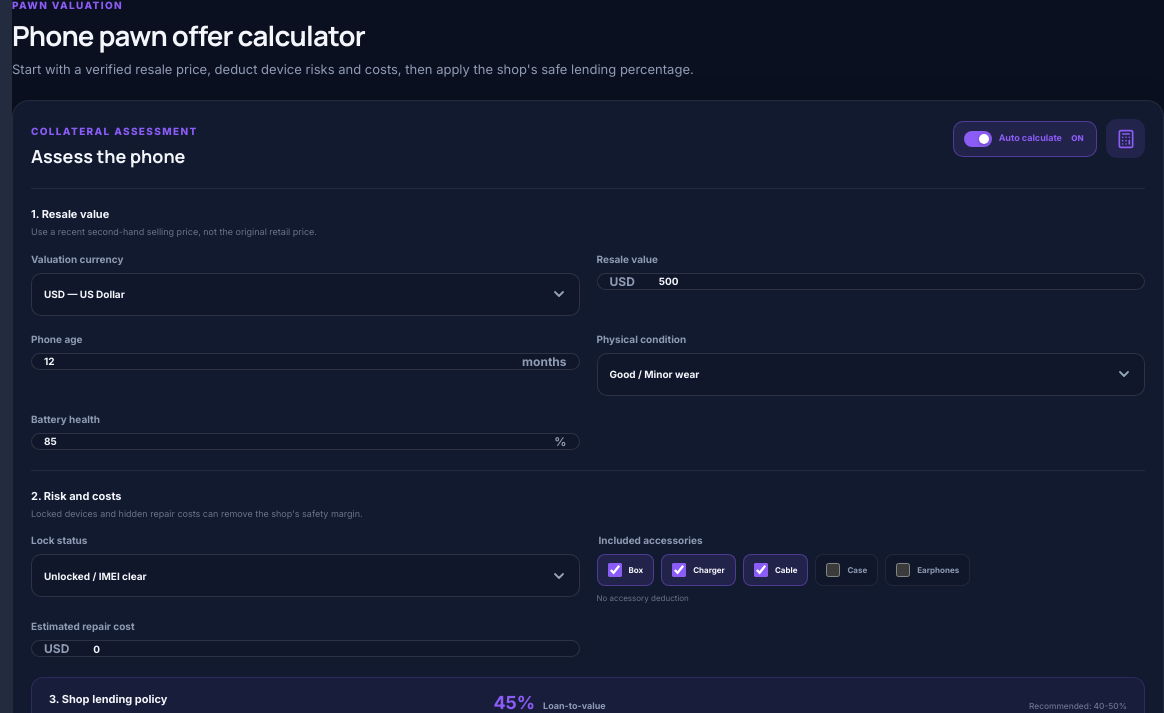
Scenario: DepreciationPage feature integration › blocks activation locked phones and disables the Start pawn action
Select "Activation or iCloud locked" in the dropdown labelled "Lock status": (305, 576) x1=31 y1=554 x2=580 y2=597
(page scrolled)
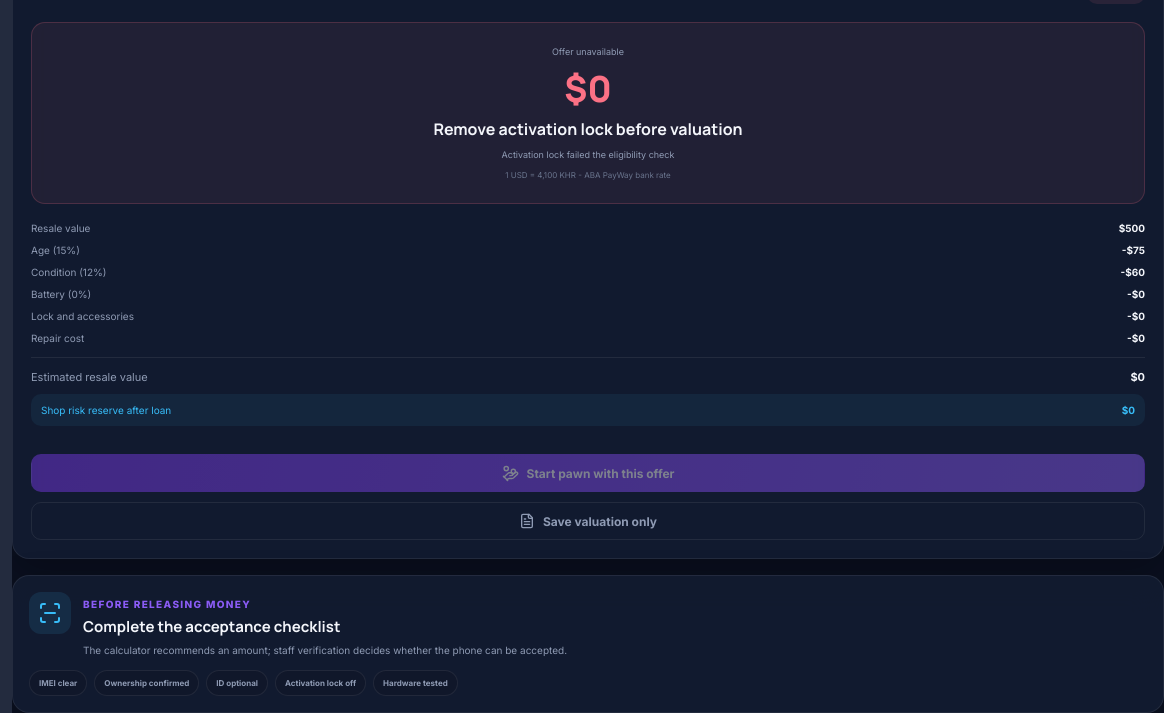
Result: the text "Offer unavailable" is shown at x1=552 y1=46 x2=624 y2=58
Result: the text "Remove activation lock before valuation" is shown at x1=433 y1=118 x2=743 y2=140
Result: the button "Start pawn with this offer" is disabled at x1=31 y1=454 x2=1145 y2=492
